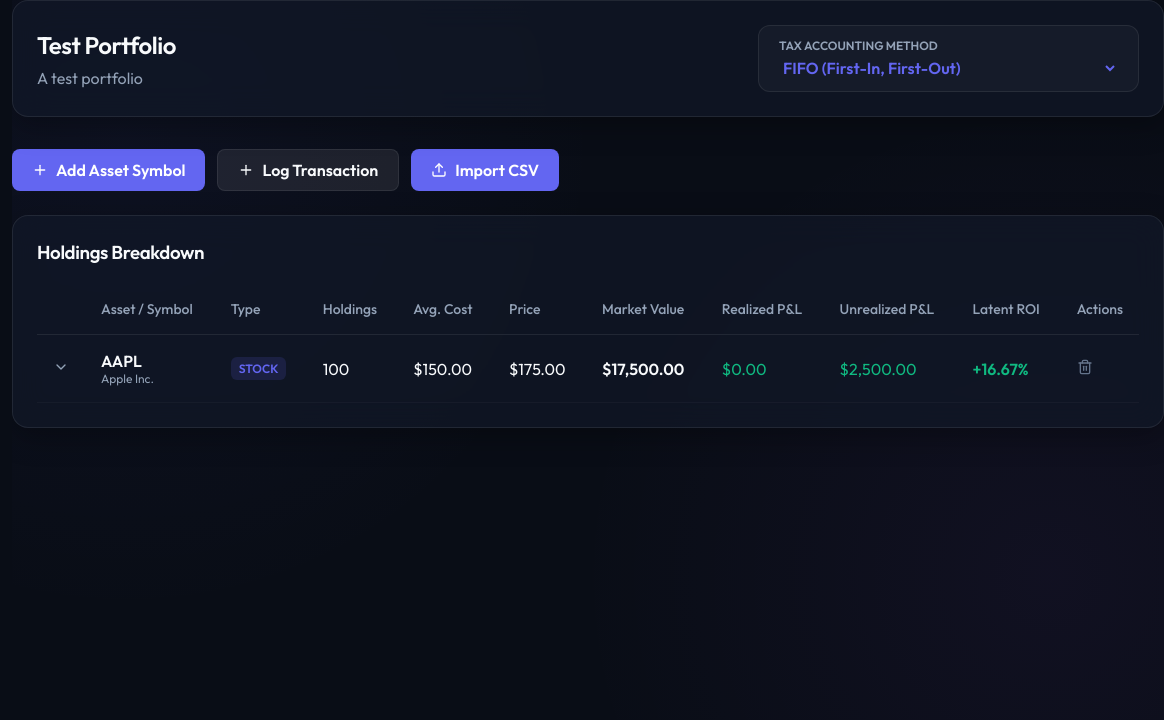
Test case: PortfolioDetail › renders tax lot details when asset row is expanded
The image size is (1164, 720).
What coordinates should you click on to do the following:
click the 4th button
I would click on:
 (61, 368)
Its box is top-left (53, 358), bottom-right (69, 378).
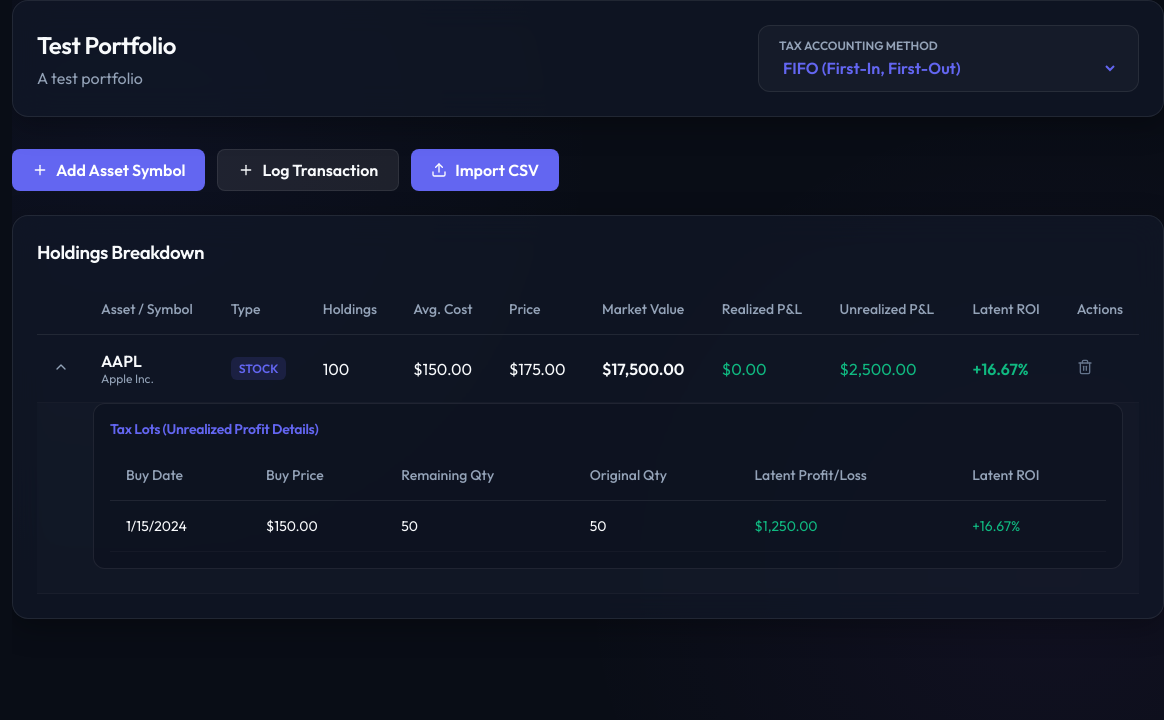
expect the heading "Tax Lots (Unrealized Profit Details)" is shown: met, box top-left (110, 420), bottom-right (318, 438)
